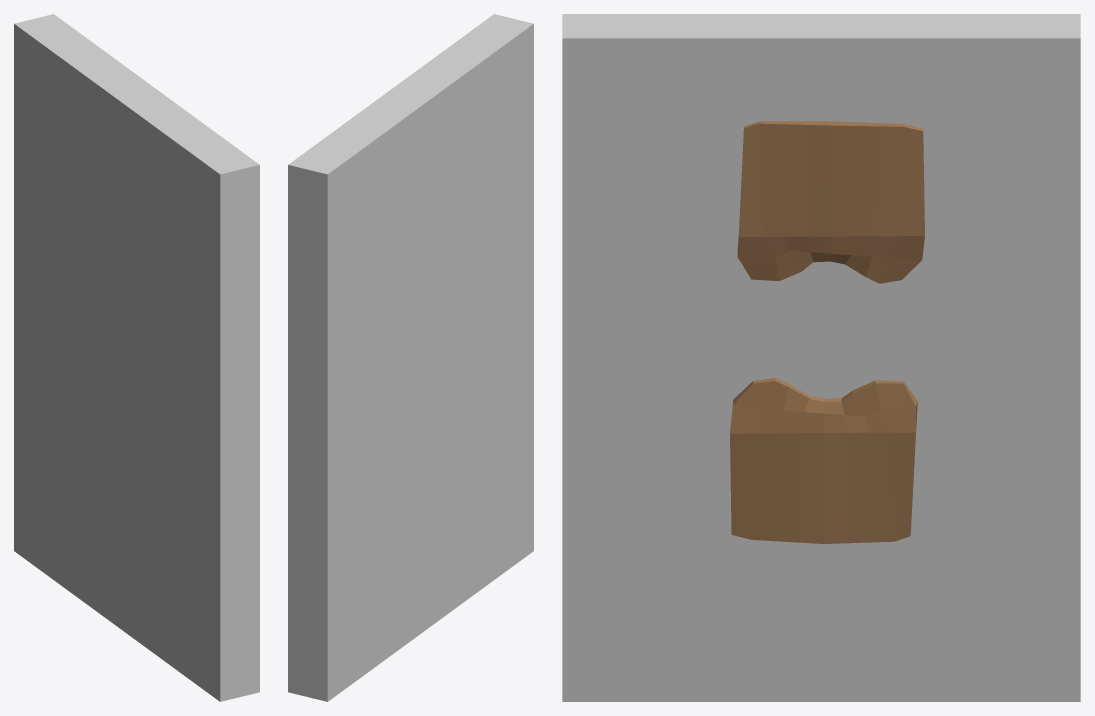
The model's file is ElevatorButton(Both).fbx.
3 renders of one model, left to right at view 1: azimuth 30°, elevation 25°; view 2: azimuth 150°, elevation 25°; view 3: azimuth 270°, elevation 25°, orthographic. The views are drawn at different scales.
Visible parts, largest first — view 1: Cube; view 2: Cube; view 3: Cube, Cube.002, Cube.001.
Part boxes in pixels (<box>): Cube: <box>14,14,259,701</box>; Cube: <box>288,14,533,701</box>; Cube: <box>562,14,1080,701</box>; Cube.002: <box>730,378,917,543</box>; Cube.001: <box>737,121,924,283</box>.
Bounding box in the file's own units: 11.81 × 121 × 85.5.
